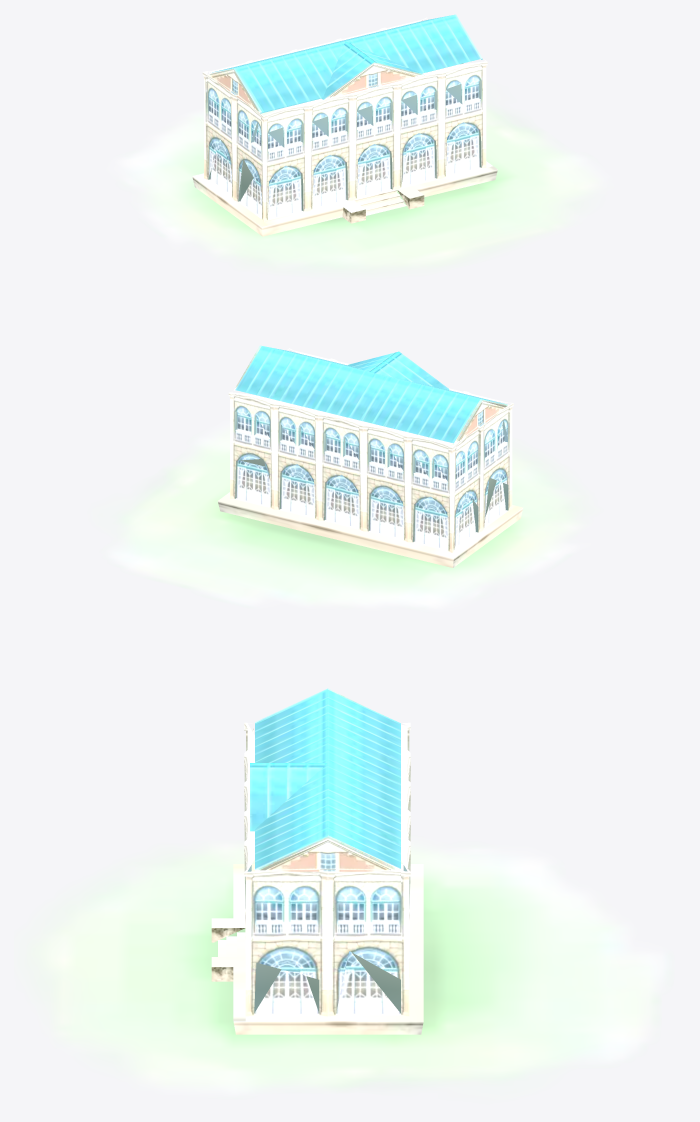
File: BLD_AquPalace_lod.glb
The picture shows the model from 3 angles, top to bottom: view 1: azimuth 30°, elevation 25°; view 2: azimuth 150°, elevation 25°; view 3: azimuth 270°, elevation 25°; orthographic projection. The views are drawn at different scales.
Visible parts, largest first — view 1: Cube.001_Mansion_0; view 2: Cube.001_Mansion_0; view 3: Cube.001_Mansion_0.
Boxes of the visible parts, x1=… form: Cube.001_Mansion_0: x1=114, y1=14, x2=607, y2=272; Cube.001_Mansion_0: x1=106, y1=345, x2=586, y2=609; Cube.001_Mansion_0: x1=27, y1=688, x2=671, y2=1097.
Bounding box in the file's own units: 1477 × 474 × 1477.
1 material, 1 textured.
